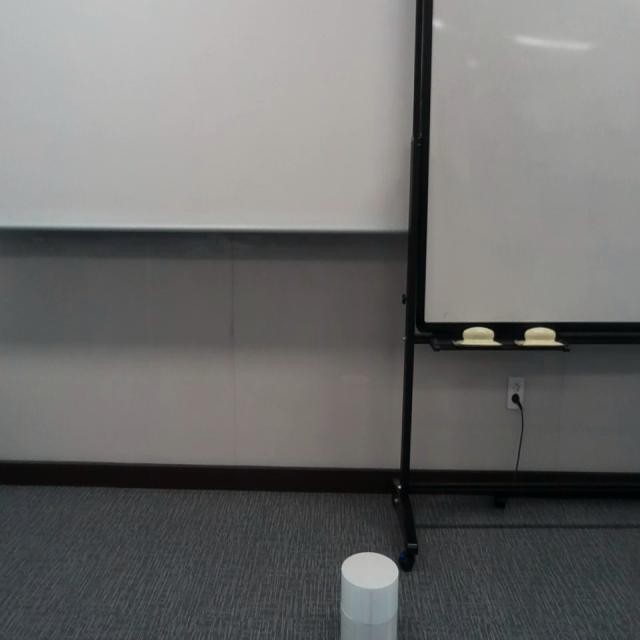cylinder: (340, 551, 400, 640)
